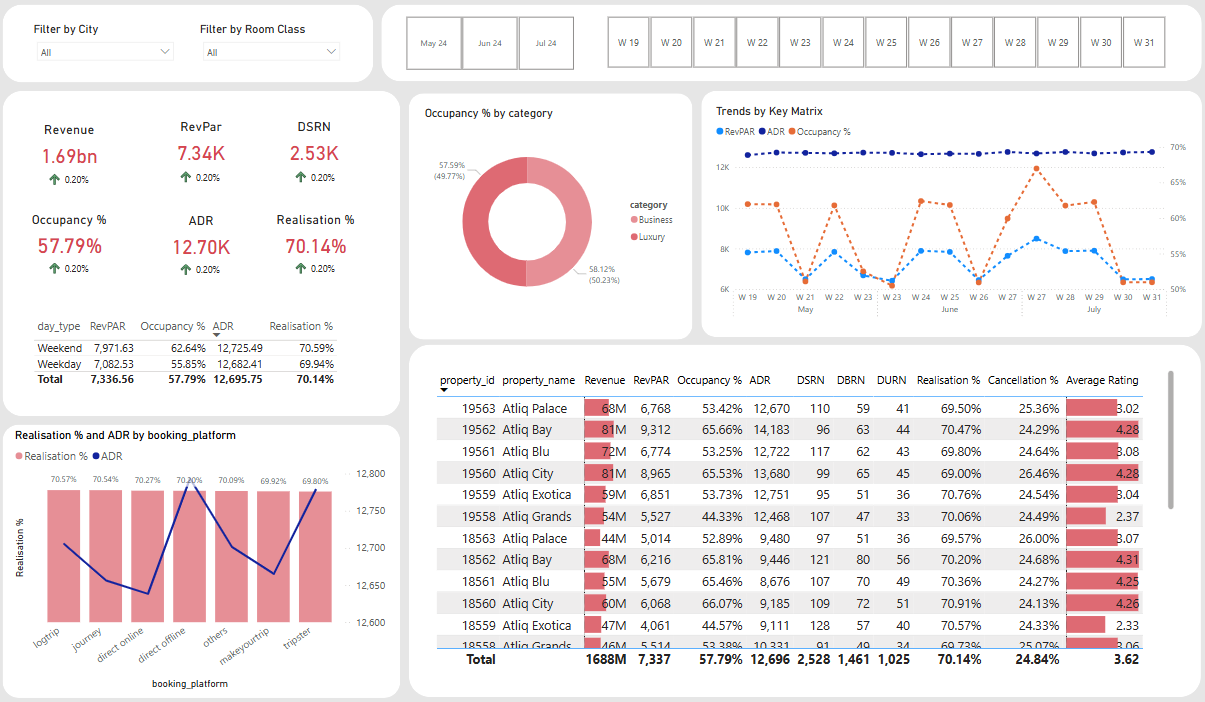

Layout of this report page (visuals, bound fields, positions):
{"tool":"powerbi","page":{"name":"Page 1","canvas":[1800,1100],"ordinal":0},"visuals":[{"type":"shape","box":[618.3,535,1168.3,520],"z":0},{"type":"shape","box":[18.3,651.7,586.7,403.3],"z":1000},{"type":"shape","box":[1048.3,160,738.3,363.3],"z":2000},{"type":"shape","box":[618.3,163.3,418.3,363.3],"z":3000},{"type":"shape","box":[576.7,33.3,1210,113.3],"z":4000},{"type":"shape","box":[18.3,160,586.7,480],"z":5000},{"type":"shape","box":[18.3,33.3,546.7,115],"z":6000},{"type":"tableEx","fields":{"Values":["dim_hotels.property_id","dim_hotels.property_name","Key Measures.Revenue","Key Measures.RevPAR","Key Measures.Occupancy %","Key Measures.ADR","Key Measures.DSRN","Key Measures.DBRN","Key Measures.DURN","Key Measures.Realisation %","Key Measures.Cancellation %","Key Measures.Average Rating"]},"box":[653.3,568.3,1098.3,451.7],"z":7000},{"type":"slicer","title":"Filter by City","fields":{"Values":["dim_hotels.city"]},"box":[58.3,58.3,221.7,75],"z":8000},{"type":"slicer","title":"Filter by Room Class","fields":{"Values":["dim_rooms.room_class"]},"box":[305,58.3,221.7,80],"z":9000},{"type":"slicer","fields":{"Values":["dim_date.mmm yy"]},"box":[588.3,45,296.7,91.7],"z":10000},{"type":"slicer","fields":{"Values":["dim_date.week no"]},"box":[885,45,871.7,88.3],"z":11000},{"type":"tableEx","fields":{"Values":["Key Measures.Revenue WoW change %"]},"box":[75,246.7,83.3,63.3],"z":12000},{"type":"donutChart","fields":{"Category":["dim_hotels.category"],"Y":["Key Measures.Occupancy %"]},"box":[635,183.3,386.7,323.3],"z":13000},{"type":"card","title":"Revenue","fields":{"Values":["Key Measures.Revenue"]},"box":[55,206.7,123.3,75],"z":14000},{"type":"lineChart","title":"Trends by Key Matrix","fields":{"Category":["dim_date.mmm yy.Variation.Date Hierarchy.Month","dim_date.week no"],"Y":["Key Measures.RevPAR","Key Measures.ADR"],"Y2":["Key Measures.Occupancy %"]},"box":[1065,180,703.3,323.3],"z":15000},{"type":"lineStackedColumnComboChart","fields":{"Category":["fact_bookings.booking_platform"],"Y":["Key Measures.Realisation %"],"Y2":["Key Measures.ADR"]},"box":[31.7,658.3,556.7,390],"z":16000},{"type":"tableEx","fields":{"Values":["dim_date.day_type","Key Measures.RevPAR","Key Measures.Occupancy %","Key Measures.ADR","Key Measures.Realisation %"]},"box":[58.3,490,468.3,120],"z":17000},{"type":"tableEx","fields":{"Values":["Key Measures.Revenue WoW change %"]},"box":[270,243.3,83.3,63.3],"z":18000},{"type":"tableEx","fields":{"Values":["Key Measures.Revenue WoW change %"]},"box":[438.3,378.3,83.3,63.3],"z":19000},{"type":"tableEx","fields":{"Values":["Key Measures.Revenue WoW change %"]},"box":[270,380,83.3,63.3],"z":20000},{"type":"tableEx","fields":{"Values":["Key Measures.Revenue WoW change %"]},"box":[75,378.3,83.3,63.3],"z":21000},{"type":"tableEx","fields":{"Values":["Key Measures.Revenue WoW change %"]},"box":[438.3,243.3,83.3,63.3],"z":22000},{"type":"card","title":"RevPar","fields":{"Values":["Key Measures.RevPAR"]},"box":[230,203.3,161.7,75],"z":23000},{"type":"card","title":"Realisation %","fields":{"Values":["Key Measures.Realisation %"]},"box":[413.3,338.3,135,75],"z":24000},{"type":"card","title":"ADR","fields":{"Values":["Key Measures.ADR"]},"box":[256.7,341.7,110,75],"z":25000},{"type":"card","title":"Occupancy %","fields":{"Values":["Key Measures.Occupancy %"]},"box":[55,338.3,123.3,75],"z":26000},{"type":"card","title":"DSRN","fields":{"Values":["Key Measures.DSRN"]},"box":[426.7,203.3,105,75],"z":27000}]}

Visuals, with their boxes on the page's 1800x1100 design canvas (x1, y1, x2, y2). These are canvas units, not pixel positions in the 1205x702 screenshot, which may show the page scaled, cropped or inside an application window:
shape: 618/535/1787/1055
shape: 18/652/605/1055
shape: 1048/160/1787/523
shape: 618/163/1037/527
shape: 577/33/1787/147
shape: 18/160/605/640
shape: 18/33/565/148
tableEx - dim_hotels.property_id x dim_hotels.property_name: 653/568/1752/1020
"Filter by City" slicer: 58/58/280/133
"Filter by Room Class" slicer: 305/58/527/138
slicer - dim_date.mmm yy: 588/45/885/137
slicer - dim_date.week no: 885/45/1757/133
tableEx - Key Measures.Revenue WoW change %: 75/247/158/310
donutChart - dim_hotels.category x Key Measures.Occupancy %: 635/183/1022/507
"Revenue" card: 55/207/178/282
"Trends by Key Matrix" lineChart: 1065/180/1768/503
lineStackedColumnComboChart - fact_bookings.booking_platform x Key Measures.Realisation %: 32/658/588/1048
tableEx - dim_date.day_type x Key Measures.RevPAR: 58/490/527/610
tableEx - Key Measures.Revenue WoW change %: 270/243/353/307
tableEx - Key Measures.Revenue WoW change %: 438/378/522/442
tableEx - Key Measures.Revenue WoW change %: 270/380/353/443
tableEx - Key Measures.Revenue WoW change %: 75/378/158/442
tableEx - Key Measures.Revenue WoW change %: 438/243/522/307
"RevPar" card: 230/203/392/278
"Realisation %" card: 413/338/548/413
"ADR" card: 257/342/367/417
"Occupancy %" card: 55/338/178/413
"DSRN" card: 427/203/532/278
